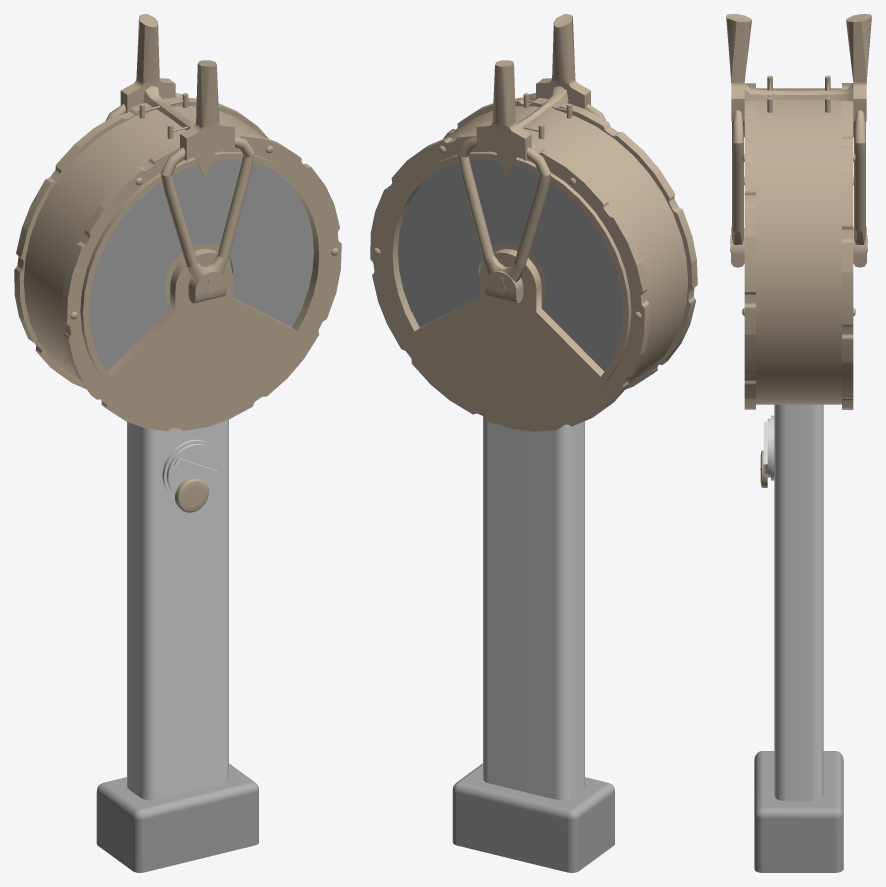
File: m_bridge_speedGauge_high_r.fbx
3 views of the same model, side by side, from view 1: azimuth 30°, elevation 25°; view 2: azimuth 150°, elevation 25°; view 3: azimuth 270°, elevation 25° (orthographic). The views are drawn at different scales.
Parts seen in each view (by area): view 1: polySurface45, polySurface17, polySurface22, polySurface18, polySurface46, polySurface20, polySurface21, polySurface25, polySurface24, polySurface37, polySurface48, polySurface50 (+2 smaller); view 2: polySurface45, polySurface43, polySurface44, polySurface18, polySurface46, polySurface21, polySurface19, polySurface20, polySurface38, polySurface37, polySurface24, polySurface39 (+1 smaller); view 3: polySurface18, polySurface45, polySurface46, polySurface20, polySurface21, polySurface24, polySurface37, polySurface25, polySurface38, polySurface36, polySurface26, polySurface39.
Boxes of the visible parts, <box> form: polySurface45: <box>127,419,228,800</box>; polySurface17: <box>89,160,313,371</box>; polySurface22: <box>80,151,325,413</box>; polySurface18: <box>23,106,329,417</box>; polySurface46: <box>96,763,258,872</box>; polySurface20: <box>61,132,341,431</box>; polySurface21: <box>14,97,268,388</box>; polySurface25: <box>160,136,254,282</box>; polySurface24: <box>180,60,234,145</box>; polySurface37: <box>120,14,175,102</box>; polySurface48: <box>166,443,217,493</box>; polySurface50: <box>175,478,208,512</box>; polySurface45: <box>483,416,584,800</box>; polySurface43: <box>398,160,622,371</box>; polySurface44: <box>386,152,630,413</box>; polySurface18: <box>382,106,687,418</box>; polySurface46: <box>452,763,614,872</box>; polySurface21: <box>370,132,650,431</box>; polySurface19: <box>386,151,631,413</box>; polySurface20: <box>443,97,697,389</box>; polySurface38: <box>457,136,551,282</box>; polySurface37: <box>476,60,531,145</box>; polySurface24: <box>536,14,590,102</box>; polySurface39: <box>485,271,523,303</box>; polySurface18: <box>756,88,841,404</box>; polySurface45: <box>774,404,823,801</box>; polySurface46: <box>754,751,843,872</box>; polySurface20: <box>744,83,755,409</box>; polySurface21: <box>842,83,853,409</box>; polySurface24: <box>726,14,751,106</box>; polySurface37: <box>846,14,871,106</box>; polySurface25: <box>731,110,743,244</box>; polySurface38: <box>854,110,866,244</box>; polySurface36: <box>744,83,853,101</box>; polySurface26: <box>731,228,744,267</box>; polySurface39: <box>853,228,866,267</box>.
Size of the model in its own units: 22.68 by 63.32 by 10.14.
